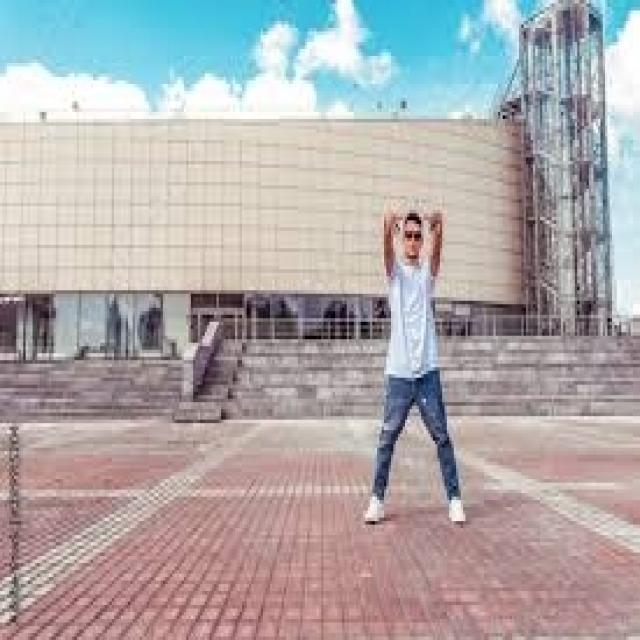walking: (360, 201, 464, 537)
